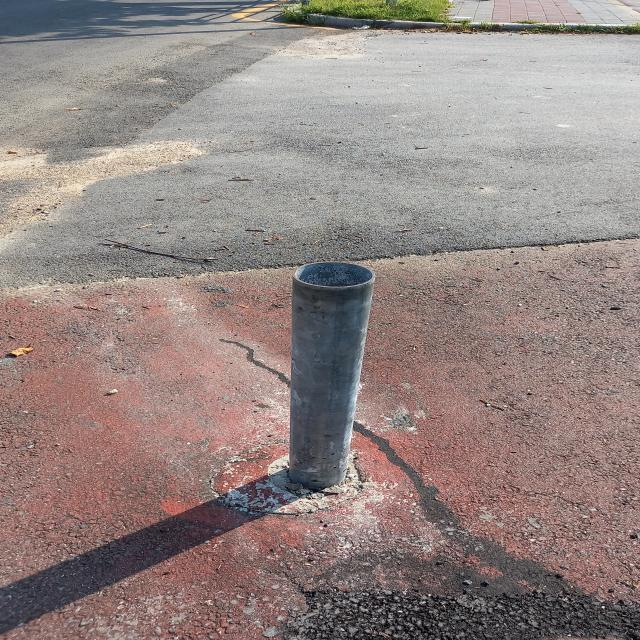pole: (288, 262, 375, 489)
